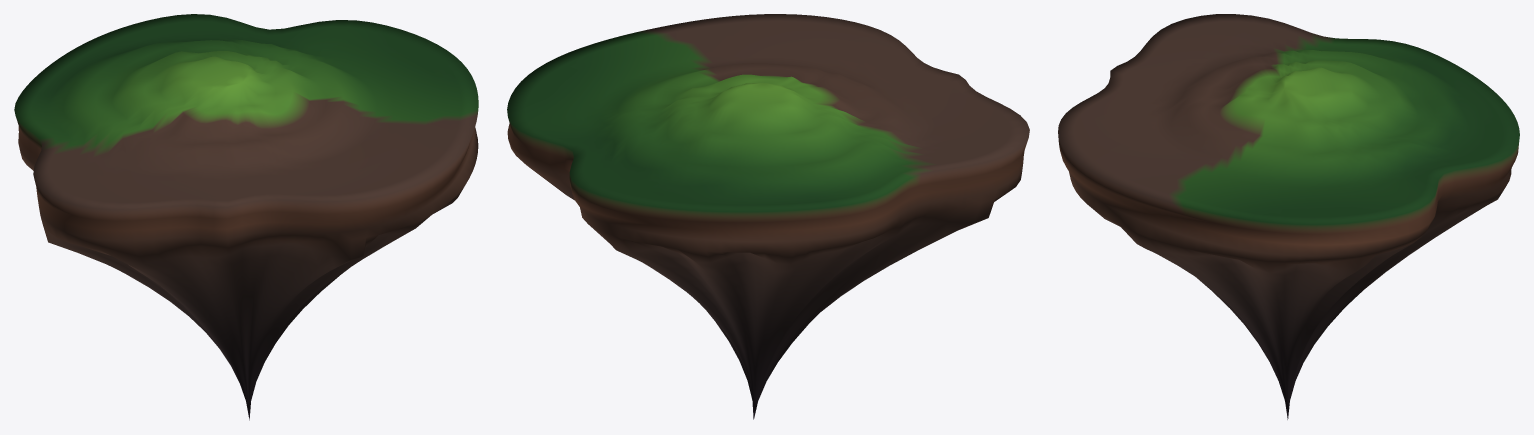
Rendered from island.lod0.glb.
The picture shows the model from 3 angles, left to right: view 1: azimuth 30°, elevation 25°; view 2: azimuth 150°, elevation 25°; view 3: azimuth 270°, elevation 25°; orthographic projection. The views are drawn at different scales.
Parts seen in each view (by area): view 1: island_s1_lod0; view 2: island_s1_lod0; view 3: island_s1_lod0.
Part boxes in pixels (x1,y1,x2,y2): island_s1_lod0: (14,14,478,420); island_s1_lod0: (507,14,1029,419); island_s1_lod0: (1058,14,1519,419).
Size of the model in its own units: 10.3 by 7.51 by 9.59.
